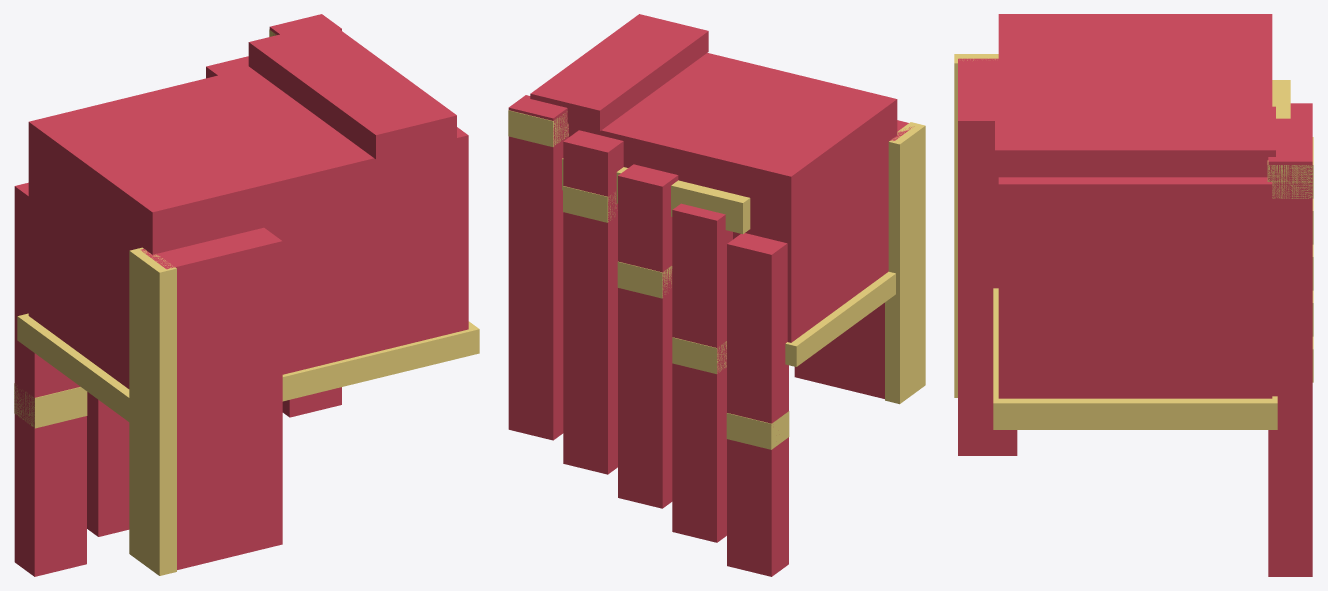
Rendered from sari_tronco.glb.
3 renders of one model, left to right at view 1: azimuth 30°, elevation 25°; view 2: azimuth 150°, elevation 25°; view 3: azimuth 270°, elevation 25°, orthographic. The views are drawn at different scales.
Parts seen in each view (by area): view 1: sari_tronco; view 2: sari_tronco; view 3: sari_tronco.
Part boxes in pixels (x1=…): sari_tronco: x1=14, y1=14, x2=479, y2=576; sari_tronco: x1=508, y1=14, x2=925, y2=576; sari_tronco: x1=954, y1=14, x2=1313, y2=576.
Bounding box in the file's own units: 0.5825 × 0.79 × 0.486.
